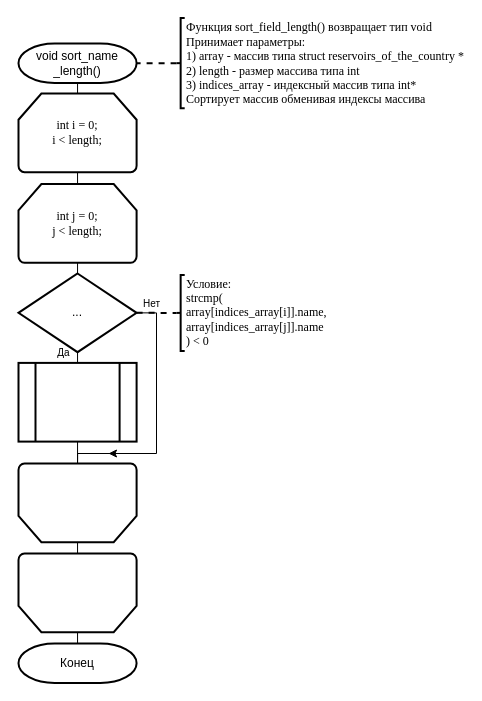
This 482x701 diagram has some shape labels left out. The shapes that lost their labels are listed below. From the top down, each one's centre as x and y in pixels, then its label:
At pixel 77 401: "int_swap( &indices_array[i], &indices_array[j] )".
At pixel 77 502: "j++".
At pixel 77 592: "i++".
